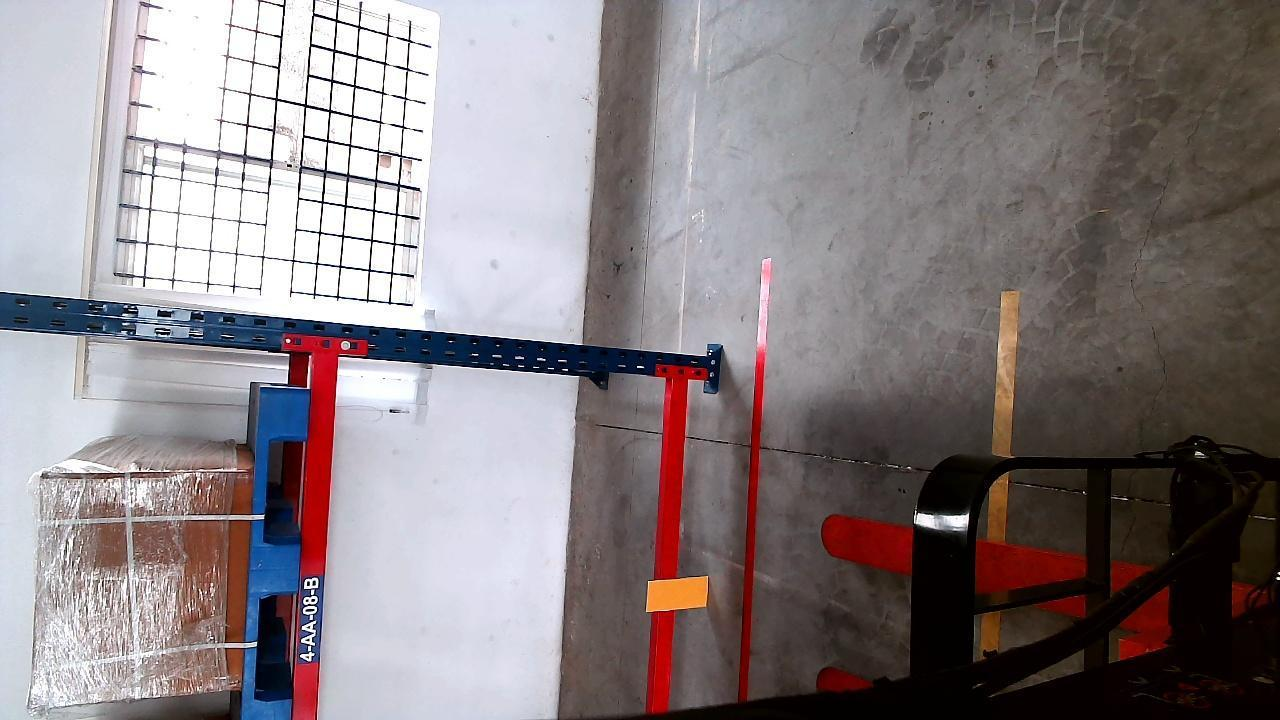h_rack: (294, 350, 341, 720), (647, 374, 686, 715)
orange_strip: (648, 576, 708, 611)
red_line: (737, 257, 774, 700)
small_pallet: (242, 384, 308, 720)
yellow_line: (989, 290, 1016, 571)
